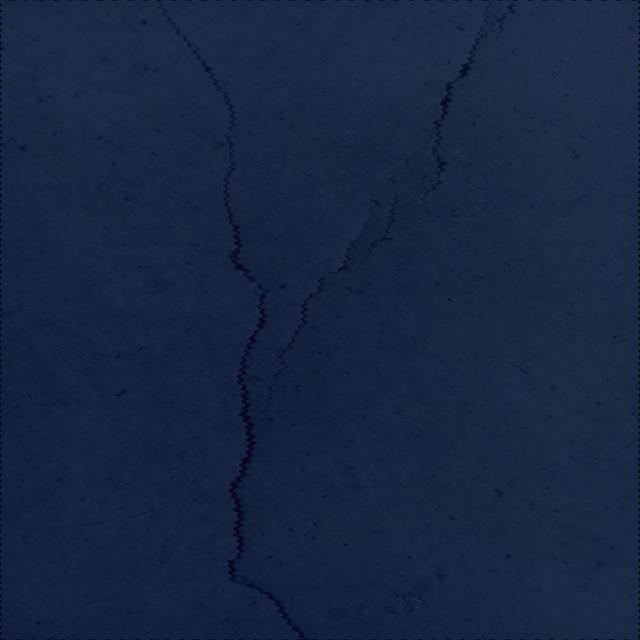crack: (260, 2, 494, 426), (158, 0, 310, 640), (494, 0, 516, 44), (428, 207, 461, 222), (393, 151, 418, 170)
